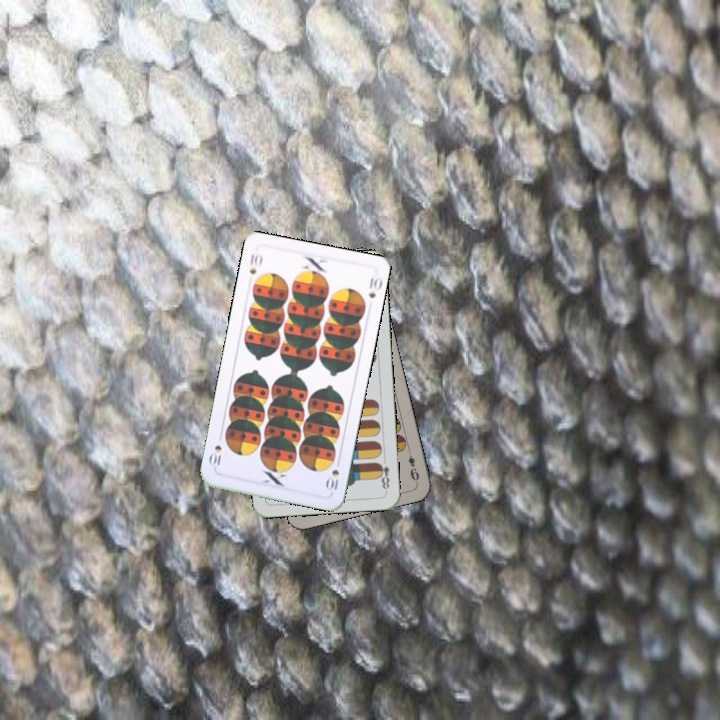E8: (374, 453, 392, 494)
E9: (404, 445, 422, 485)
S10: (322, 455, 343, 495), (245, 250, 265, 277)
